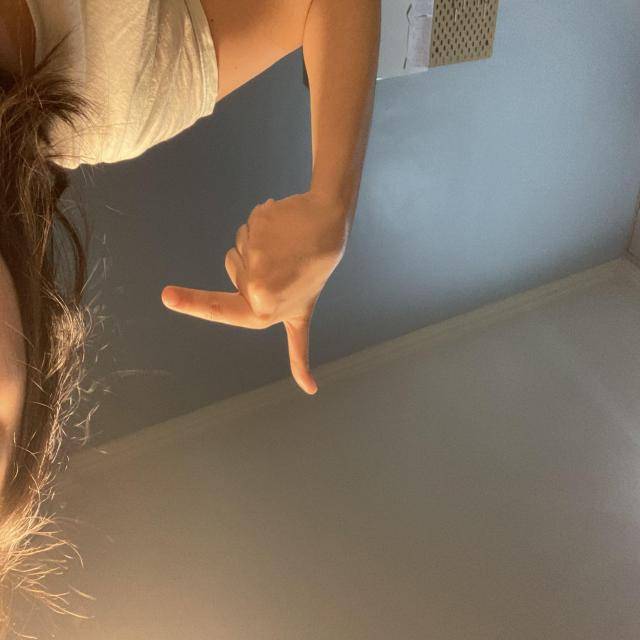G: (293, 245, 479, 452)
